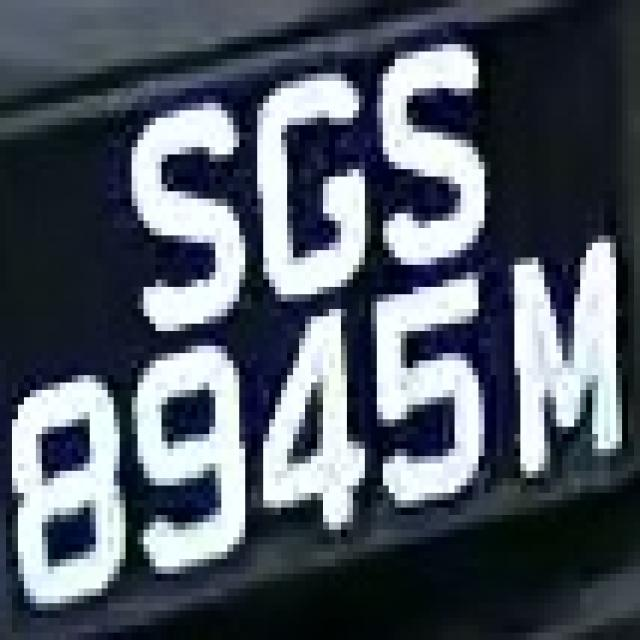4: (239, 302, 383, 559)
5: (377, 287, 484, 507)
8: (6, 368, 144, 618)
9: (120, 338, 263, 588)
G: (257, 37, 383, 316)
M: (502, 214, 634, 501)
S: (114, 81, 251, 353), (347, 29, 490, 272)
